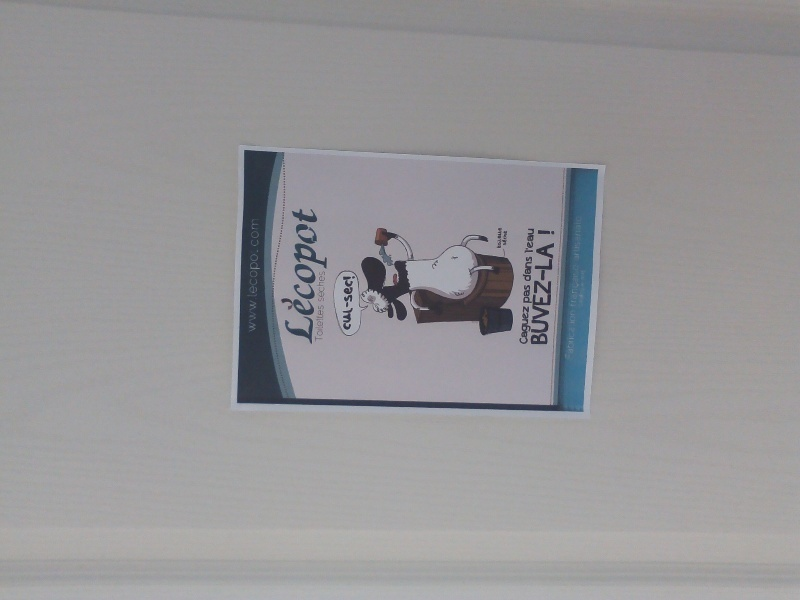text: (305, 206, 320, 349), (292, 206, 304, 349), (321, 206, 331, 349), (545, 242, 555, 345), (535, 242, 544, 345), (250, 219, 256, 333), (257, 219, 262, 333), (342, 276, 352, 331), (581, 270, 592, 304), (498, 227, 512, 249), (570, 310, 576, 359), (577, 217, 583, 261), (522, 306, 528, 346), (353, 276, 356, 331), (529, 228, 535, 254), (321, 271, 326, 302), (321, 306, 325, 342), (503, 231, 512, 246), (529, 306, 532, 346), (524, 256, 528, 282), (529, 256, 533, 282), (574, 265, 576, 307), (577, 265, 579, 307), (524, 284, 528, 304), (529, 284, 533, 304), (318, 306, 320, 342), (318, 271, 320, 302), (545, 230, 556, 235), (537, 230, 544, 235), (527, 228, 528, 254)
